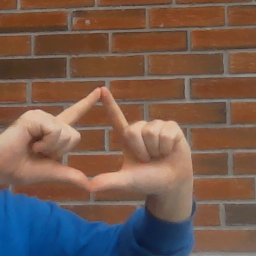J: (1, 82, 194, 197)
